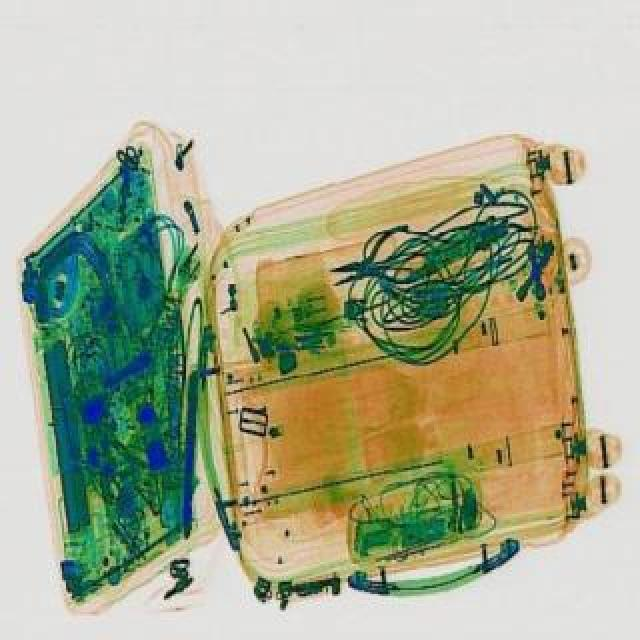wrench: (318, 218, 426, 302)
